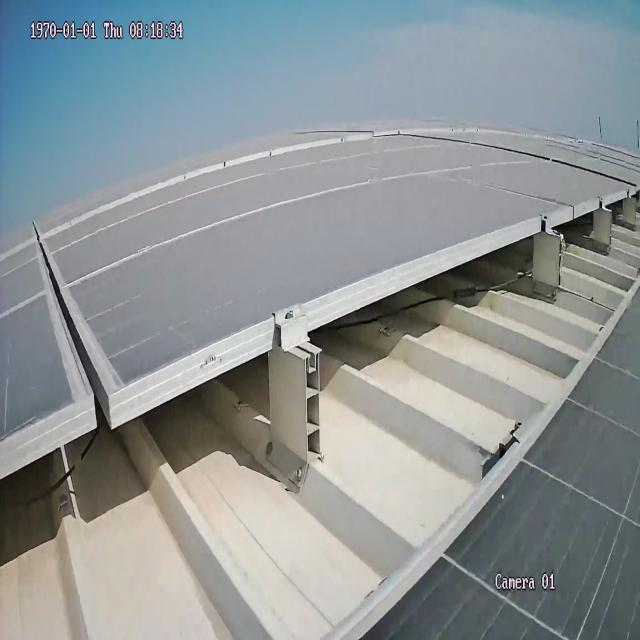interior panel: (32, 226, 115, 396)
outher panel: (0, 187, 640, 640)
